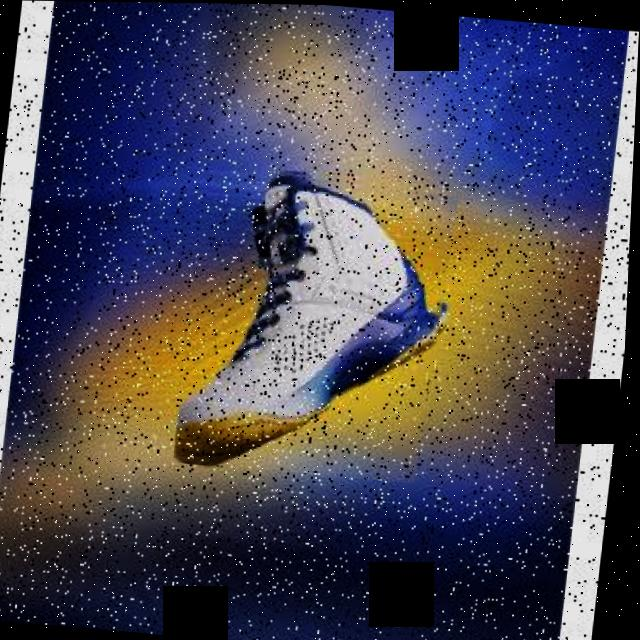shoe: (176, 160, 461, 482)
